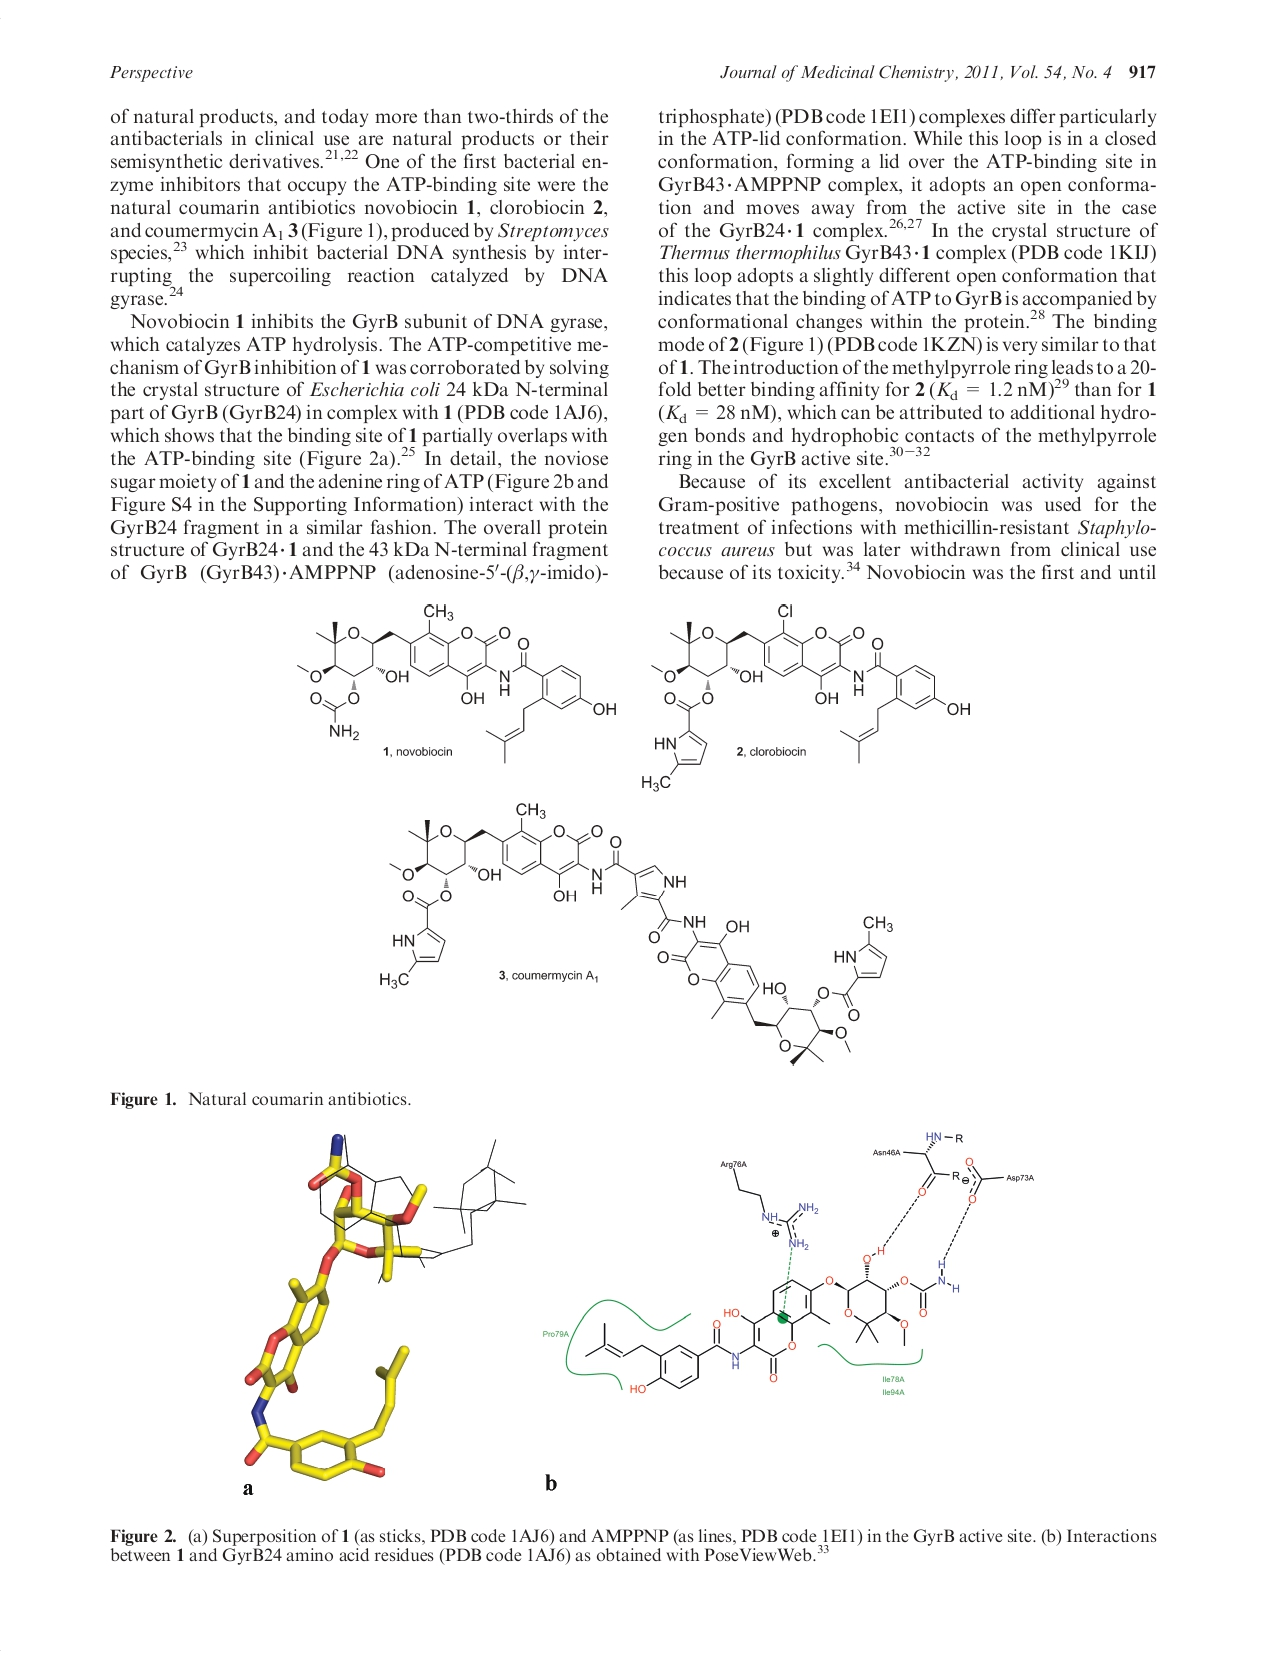exist_molecular: (372, 798, 898, 1071), (634, 602, 973, 794), (578, 1241, 973, 1396), (297, 598, 620, 765), (715, 1152, 822, 1253), (868, 1122, 969, 1197), (963, 1150, 1036, 1206)
